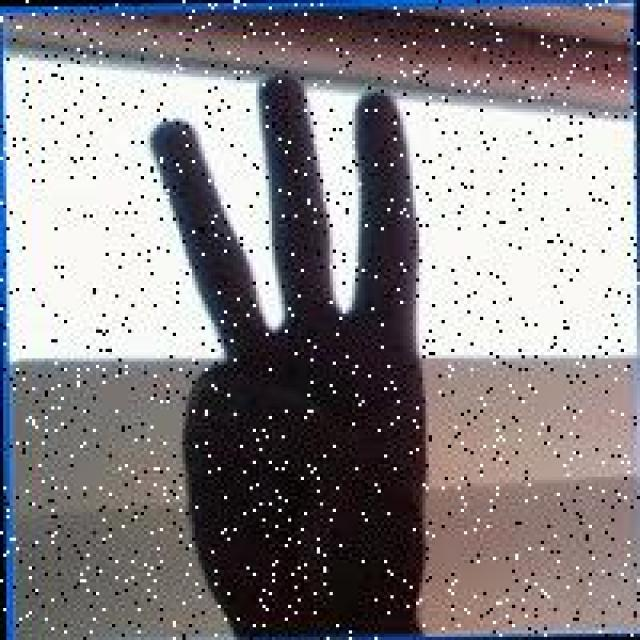W: (138, 66, 432, 628)
